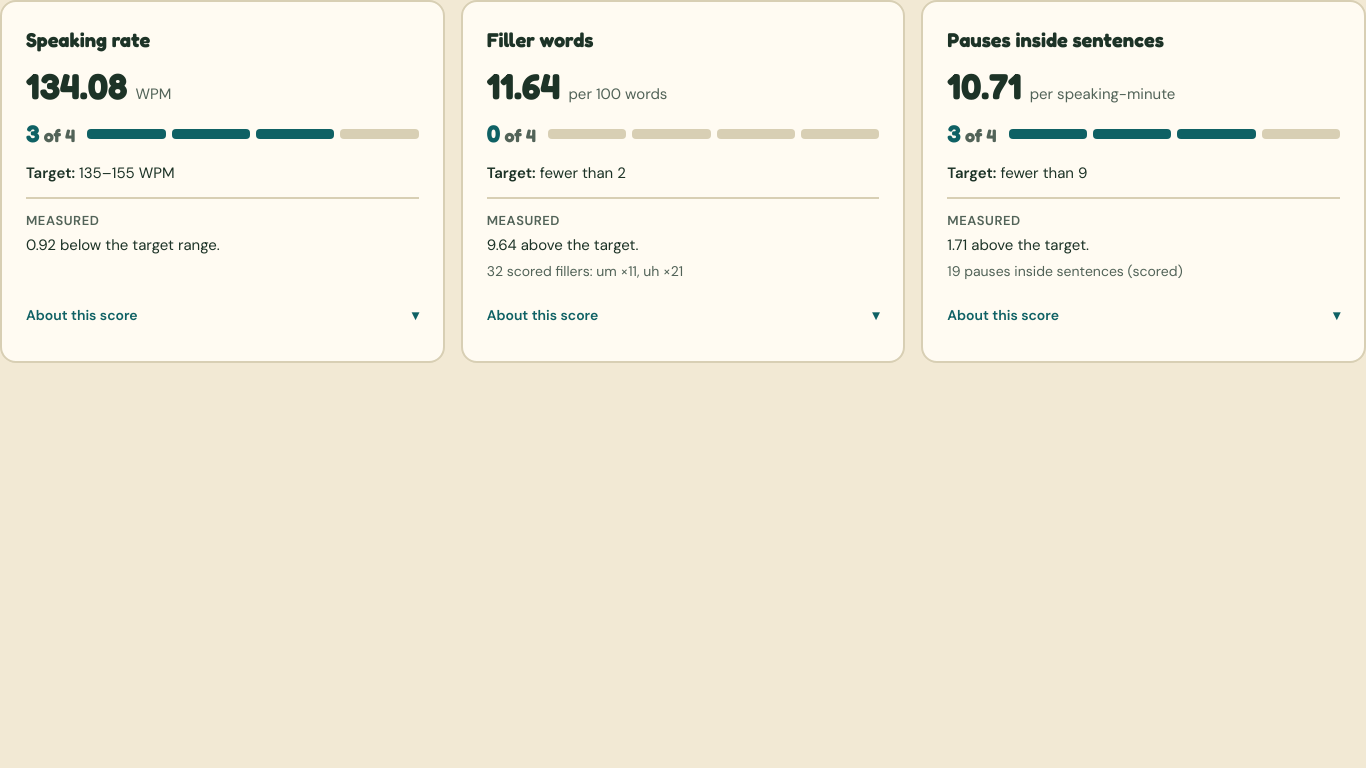
Test: ScoreCards › opens the definition, the rubric tip and the full rubric on request
Click the button "About this score ▾" below "0.92 below the target range".
click(82, 314)  # box 26,292 -> 419,336
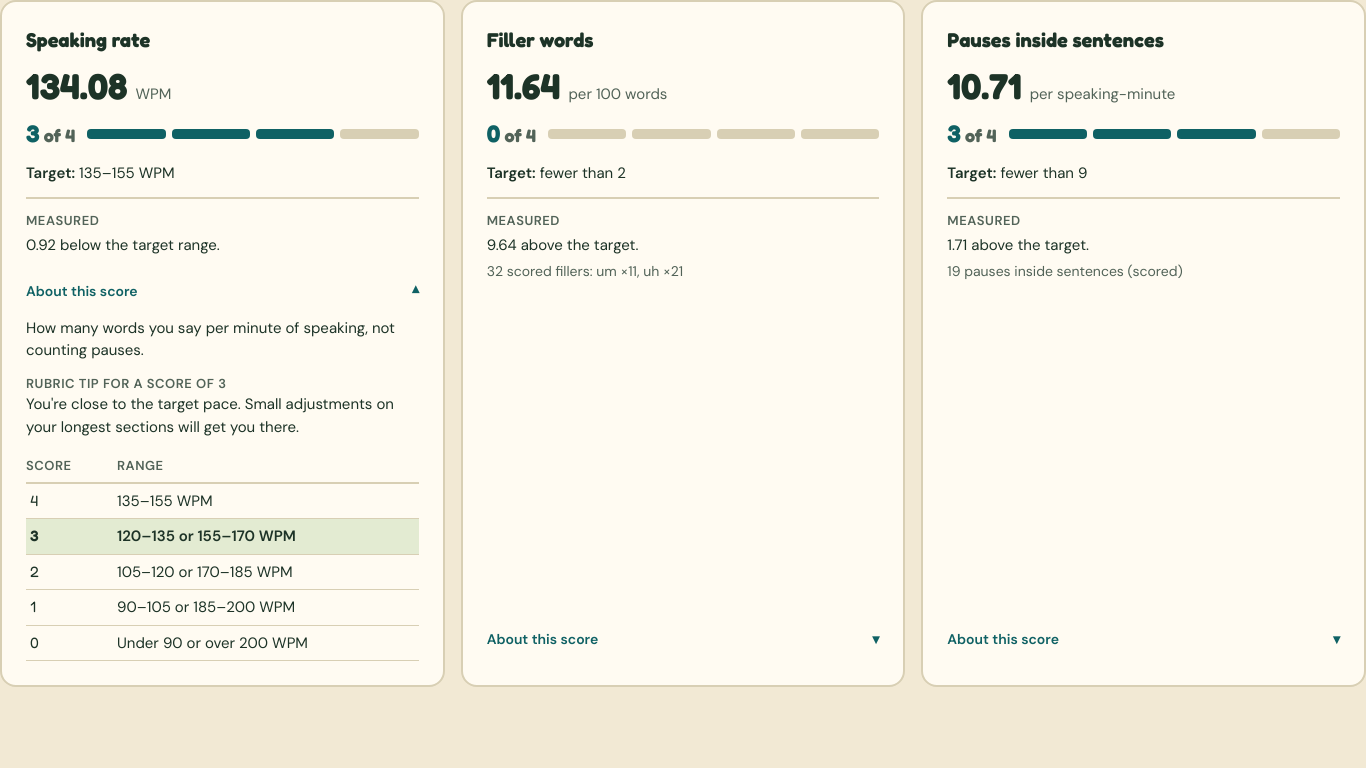
Expected: the button "About this score ▾" below "0.92 below the target range" is expanded, 26,268 -> 419,312
Expected: the text "How many words you say per minute of speaking, not counting pauses." is shown, 26,312 -> 419,362
Expected: the text "Rubric tip for a score of 3" is shown, 26,374 -> 226,392
